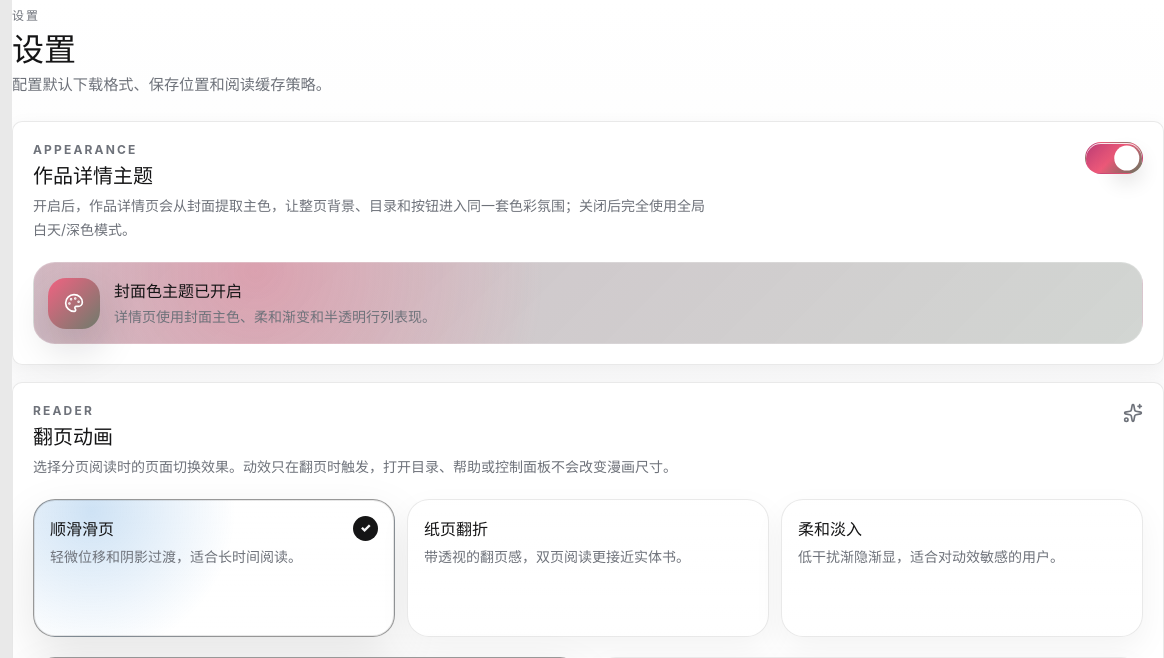
Test case: Settings native config sync › lets the user disable cover-color detail pages without changing global mode
Click the checkbox named "作品详情随封面变色": (1114, 158) [1085,142,1143,174]
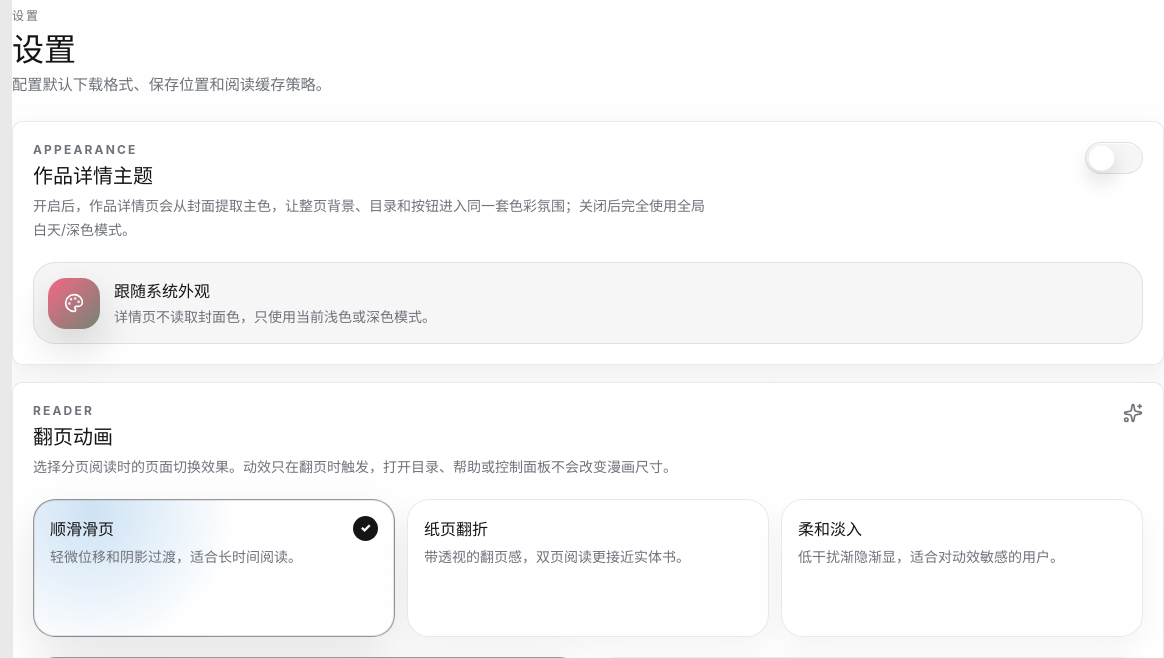
expect the text "跟随系统外观" is shown: met, box [114,281,210,301]
